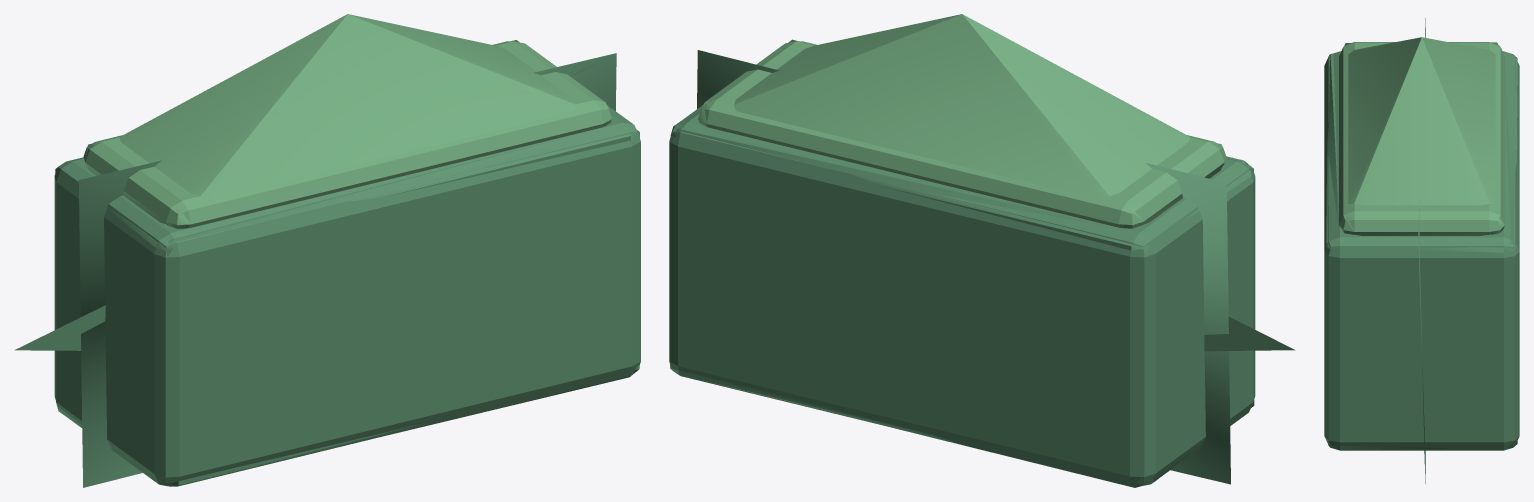
File: SM_Kurpark_Hedge.fbx
3 renders of one model, left to right at view 1: azimuth 30°, elevation 25°; view 2: azimuth 150°, elevation 25°; view 3: azimuth 270°, elevation 25°, orthographic. The views are drawn at different scales.
Parts seen in each view (by area): view 1: LOD0_SM_Kurpark_Hedge, LOD2_SM_Kurpark_Hedge, LOD1_SM_Kurpark_Hedge, LOD3_SM_Kurpark_Hedge; view 2: LOD0_SM_Kurpark_Hedge, LOD2_SM_Kurpark_Hedge, LOD1_SM_Kurpark_Hedge, LOD3_SM_Kurpark_Hedge; view 3: LOD0_SM_Kurpark_Hedge, LOD2_SM_Kurpark_Hedge, LOD1_SM_Kurpark_Hedge.
Boxes of the visible parts, box(x1,y1,x2,y2) form: LOD0_SM_Kurpark_Hedge: box(54, 41, 640, 486); LOD2_SM_Kurpark_Hedge: box(78, 14, 616, 487); LOD1_SM_Kurpark_Hedge: box(55, 40, 639, 485); LOD3_SM_Kurpark_Hedge: box(14, 53, 615, 350); LOD0_SM_Kurpark_Hedge: box(669, 41, 1255, 486); LOD2_SM_Kurpark_Hedge: box(697, 14, 1230, 484); LOD1_SM_Kurpark_Hedge: box(670, 39, 1254, 487); LOD3_SM_Kurpark_Hedge: box(1204, 317, 1295, 351); LOD0_SM_Kurpark_Hedge: box(1324, 42, 1519, 450); LOD2_SM_Kurpark_Hedge: box(1348, 18, 1495, 483); LOD1_SM_Kurpark_Hedge: box(1326, 42, 1517, 449).
Size of the model in its own units: 2.97 by 1.93 by 1.
